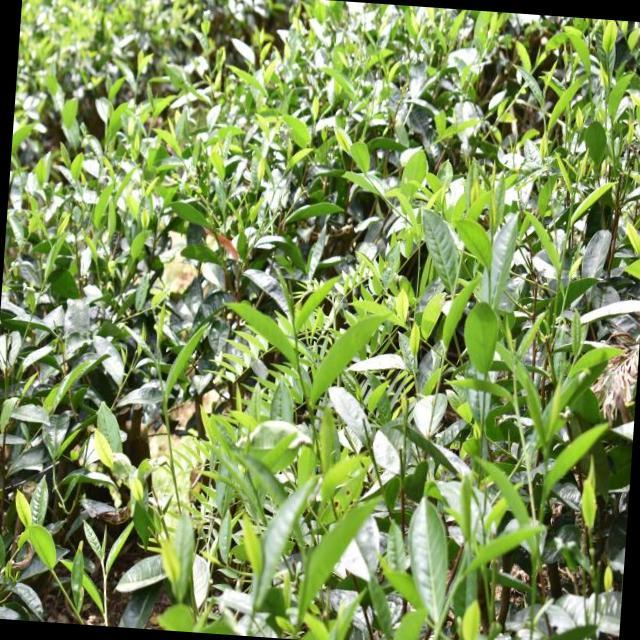Stem: (491, 232, 494, 241), (103, 574, 107, 580), (157, 367, 160, 372)
